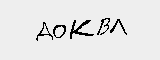В: (97, 16, 110, 35)
Д: (35, 21, 52, 39)
К: (69, 18, 93, 38)
Л: (110, 18, 127, 34)
О: (51, 24, 68, 39)
